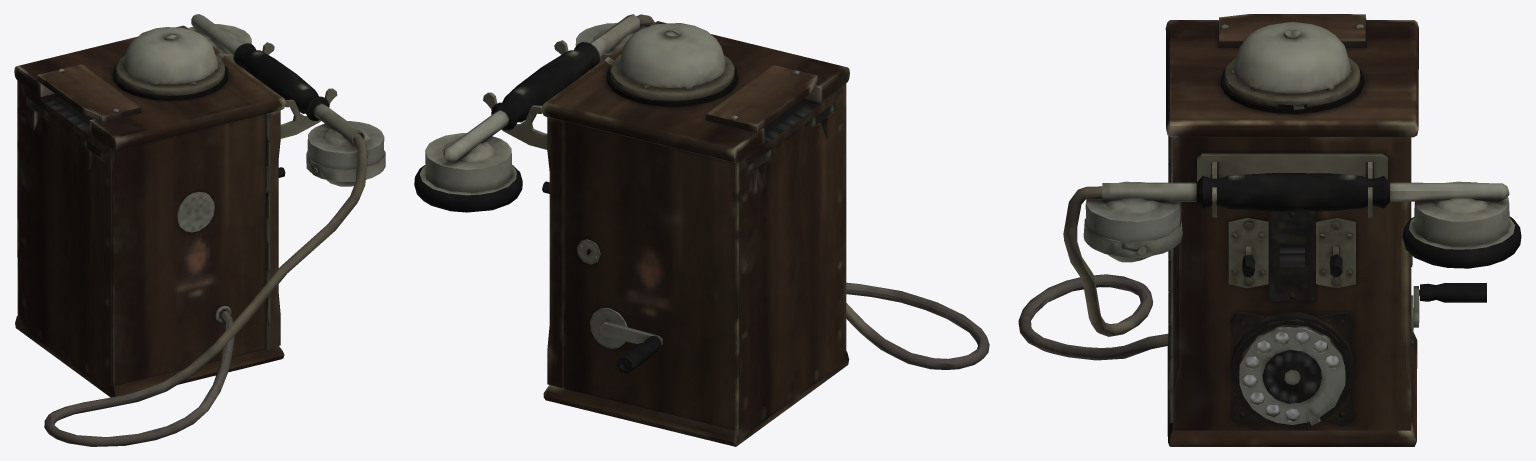
File: telephone-desk.lod1.glb
3 views of the same model, side by side, from view 1: azimuth 30°, elevation 25°; view 2: azimuth 150°, elevation 25°; view 3: azimuth 270°, elevation 25° (orthographic). The views are drawn at different scales.
Visible parts, largest first — view 1: telephone-desk; view 2: telephone-desk; view 3: telephone-desk.
Boxes of the visible parts, x1,y1,x2,y2 form: telephone-desk: (14, 14, 385, 446); telephone-desk: (414, 14, 989, 446); telephone-desk: (1018, 14, 1521, 446).
Size of the model in its own units: 0.3606 by 0.3002 by 0.3619.
2 materials, 1 textured.
